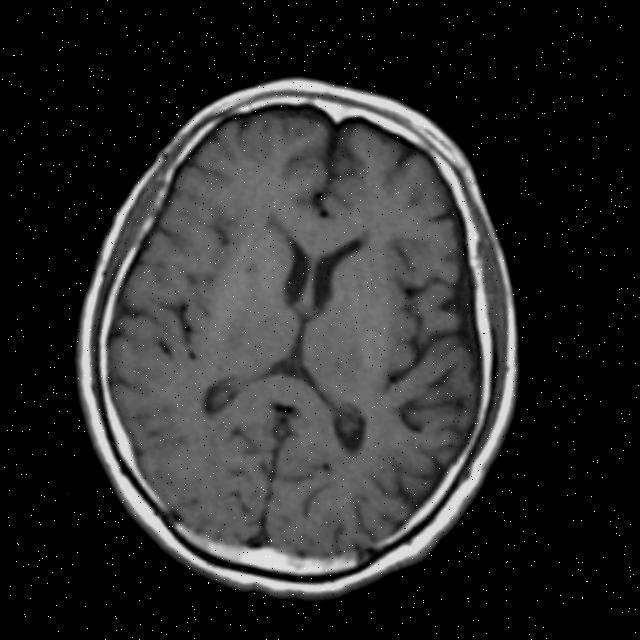NoTumor: (60, 55, 544, 611)
